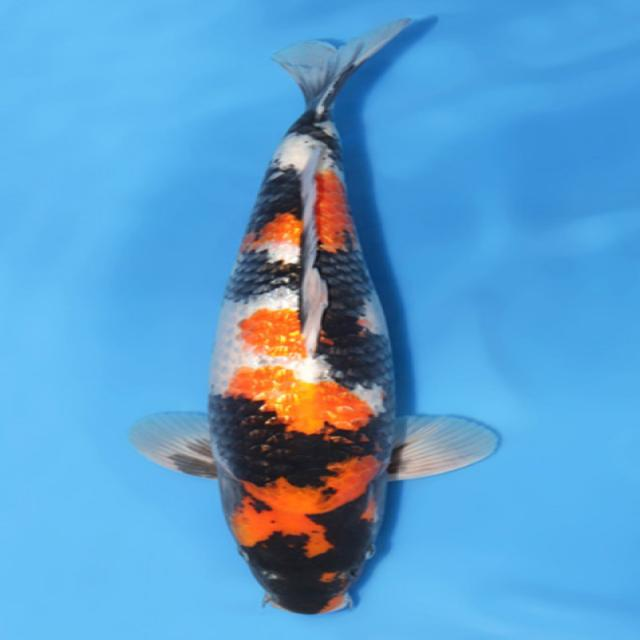Showa: (128, 16, 500, 616)
